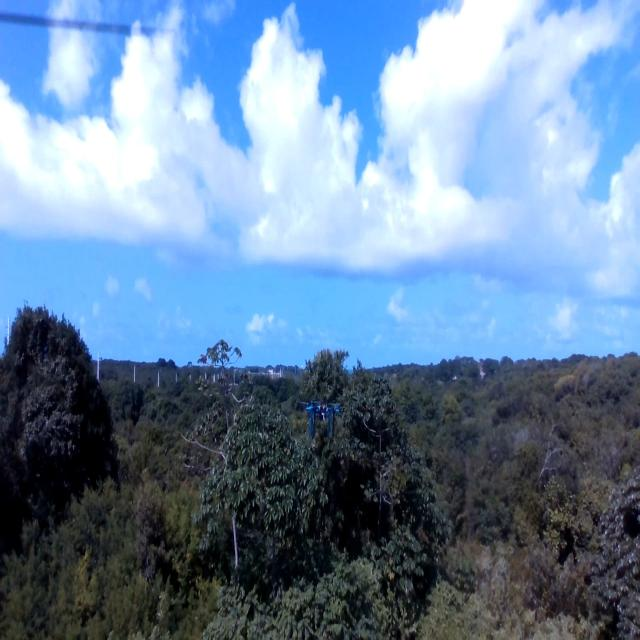-uav-: (302, 379, 351, 461)
